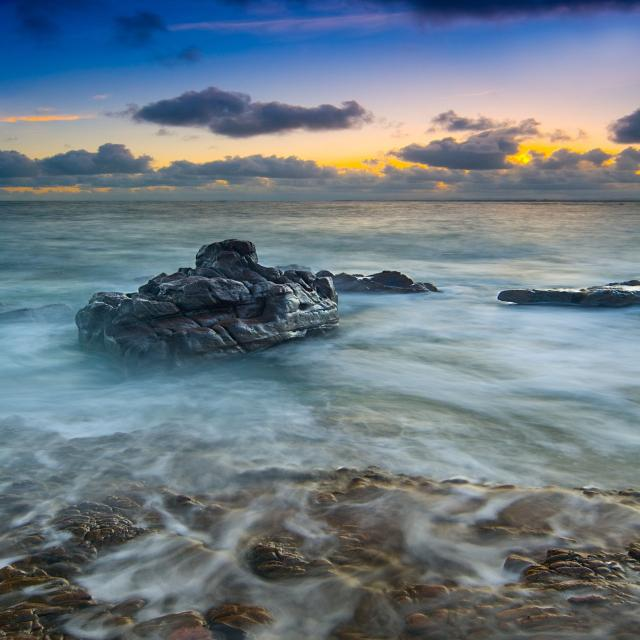reef: (61, 225, 337, 365)
